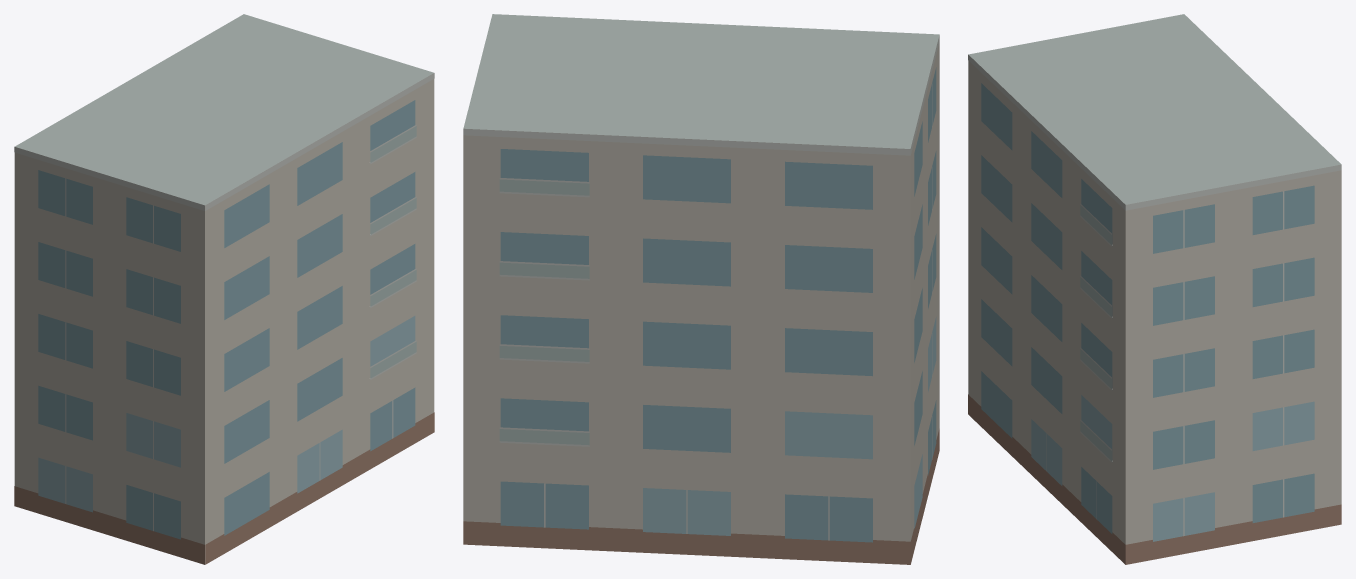
The model's file is residential-5dc5830f-751b-48cd-b1ba-ea6f4d82312c.glb.
The picture shows the model from 3 angles, left to right: view 1: azimuth 30°, elevation 25°; view 2: azimuth 150°, elevation 25°; view 3: azimuth 270°, elevation 25°; orthographic projection. The views are drawn at different scales.
Parts seen in each view (by area): view 1: residential-5dc5830f-751b-48cd-b1ba-ea6f4d82312c.tmp; view 2: residential-5dc5830f-751b-48cd-b1ba-ea6f4d82312c.tmp; view 3: residential-5dc5830f-751b-48cd-b1ba-ea6f4d82312c.tmp.
Boxes of the visible parts, <box> form: residential-5dc5830f-751b-48cd-b1ba-ea6f4d82312c.tmp: <box>14,14,434,564</box>; residential-5dc5830f-751b-48cd-b1ba-ea6f4d82312c.tmp: <box>463,14,939,564</box>; residential-5dc5830f-751b-48cd-b1ba-ea6f4d82312c.tmp: <box>968,14,1341,564</box>.
Bounding box in the file's own units: 17.36 × 15.25 × 14.35.
